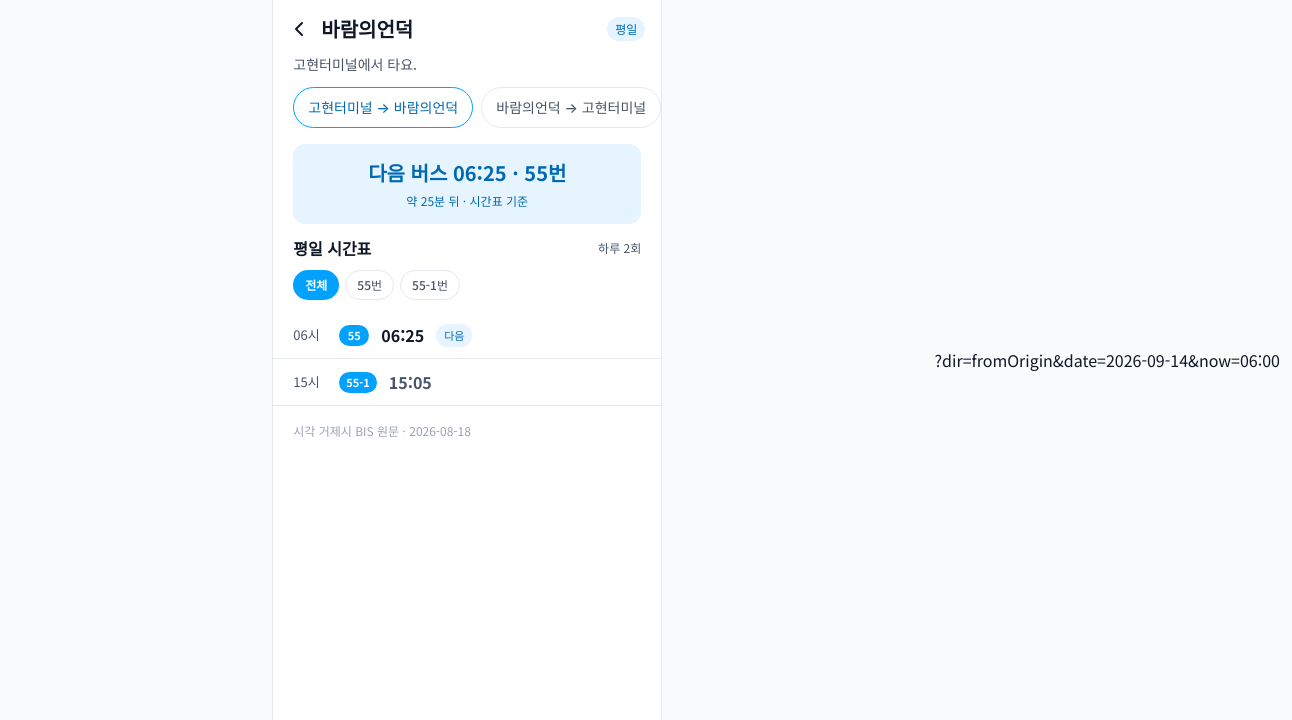
SpotTimetablePage — 버스 시간표 09-14 개정(530:213 · 541:213 · 541:327) › 도착이 추정인 편으로 만든 소요시간은 추정이라고 적는다 — 고현 → 바람의언덕 55번
The image size is (1292, 720).
What coordinates should you click on to do the following:
click the button "55번"
I would click on:
 (370, 285)
Its box is [345, 270, 394, 300].
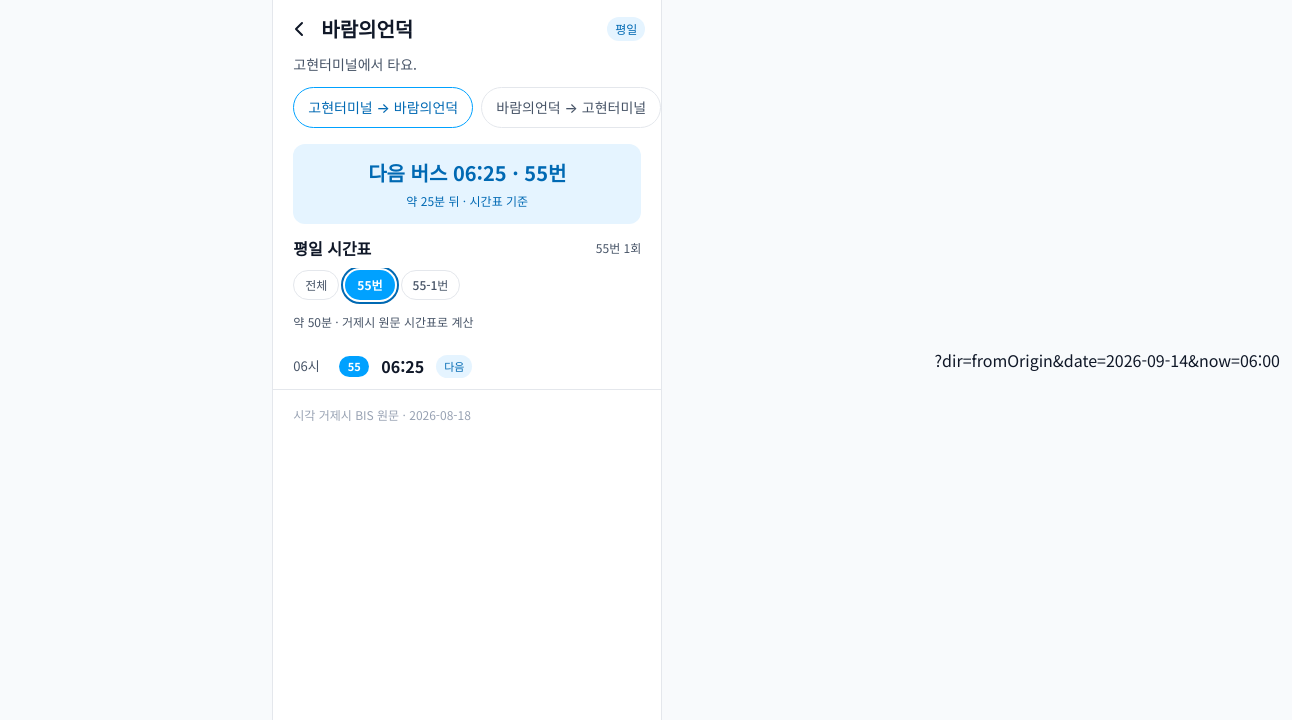
Expected: the text "약 50분 · 거제시 원문 시간표로 계산" is shown, [293, 313, 474, 330]
